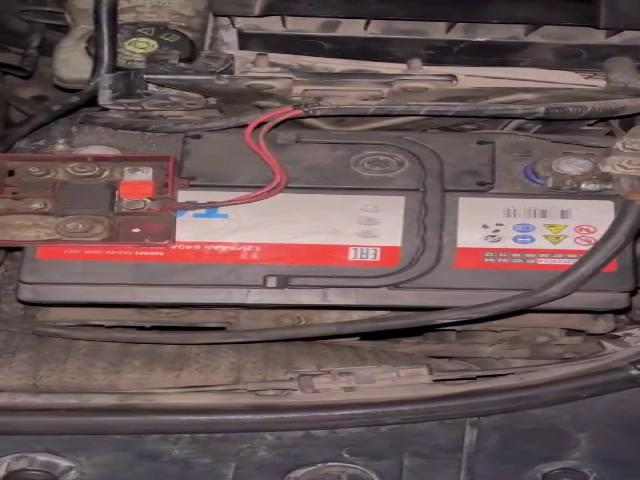accumulator: (2, 113, 624, 312)
